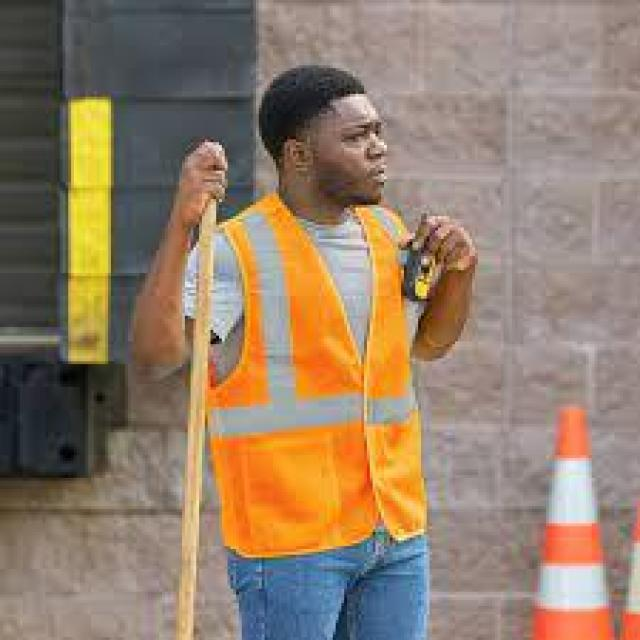vest: (195, 195, 436, 547)
